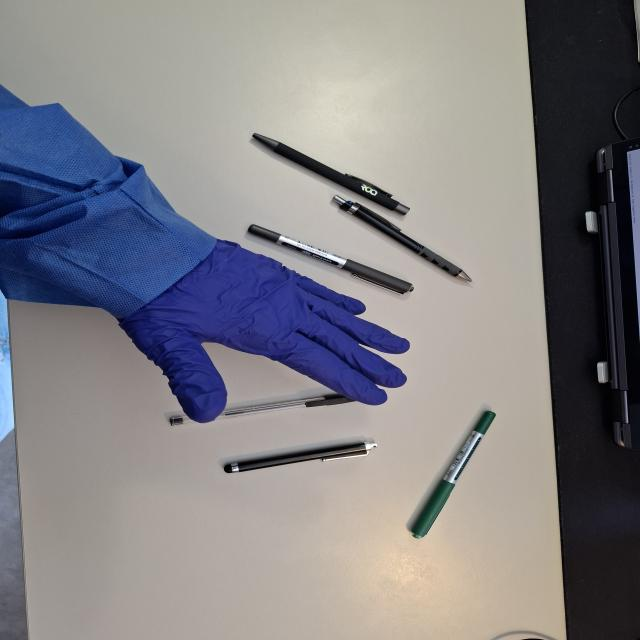glove_on: (102, 236, 414, 425)
